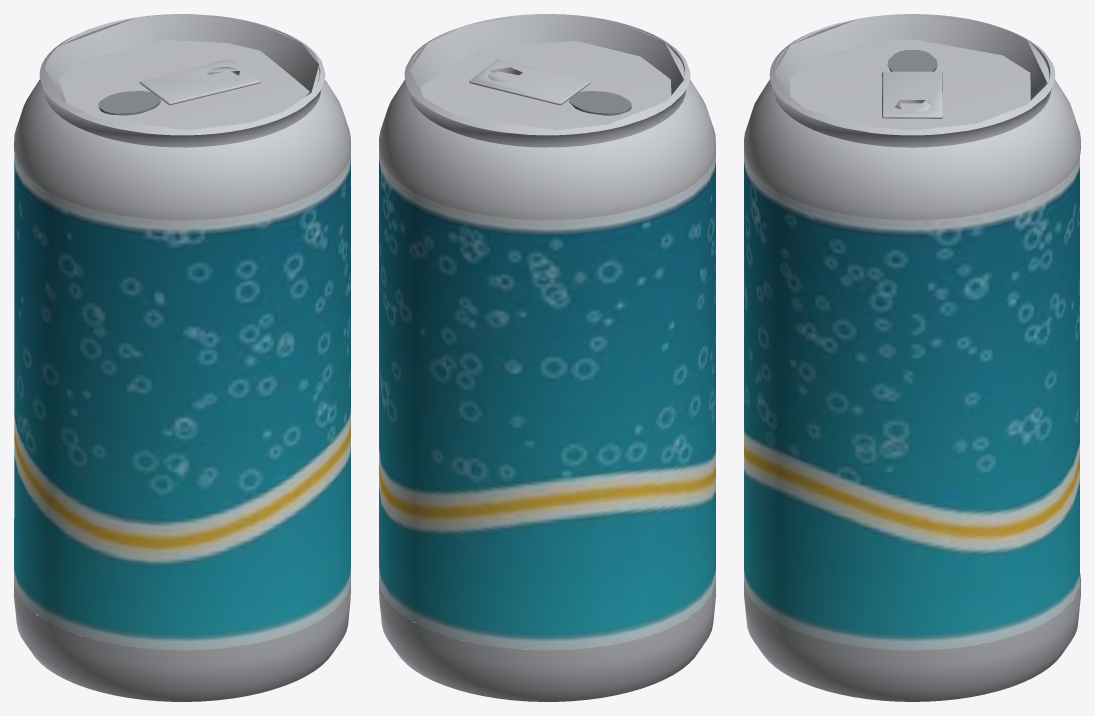
The model's file is g3d_soda_can.glb.
3 views of the same model, side by side, from view 1: azimuth 30°, elevation 25°; view 2: azimuth 150°, elevation 25°; view 3: azimuth 270°, elevation 25° (orthographic).
Parts seen in each view (by area): view 1: soda-can_body, soda-can_body_lo, soda-can_opening; view 2: soda-can_body, soda-can_body_lo, soda-can_opening; view 3: soda-can_body, soda-can_body_lo, soda-can_opening.
Part boxes in pixels (<box>): soda-can_body: <box>14,14,350,701</box>; soda-can_body_lo: <box>15,14,320,650</box>; soda-can_opening: <box>98,91,160,115</box>; soda-can_body: <box>379,14,715,701</box>; soda-can_body_lo: <box>382,14,714,650</box>; soda-can_opening: <box>569,91,631,115</box>; soda-can_body: <box>744,14,1080,701</box>; soda-can_body_lo: <box>774,14,1080,650</box>; soda-can_opening: <box>887,50,937,71</box>.
Bounding box in the file's own units: 0.066 × 0.1231 × 0.066.
3 materials, 1 textured.
